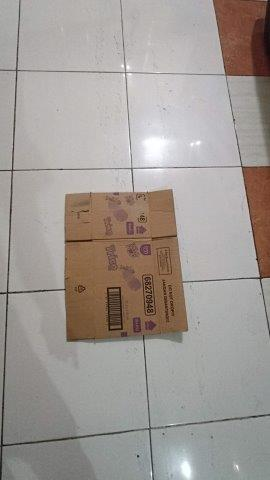kardus: (66, 190, 187, 340)
